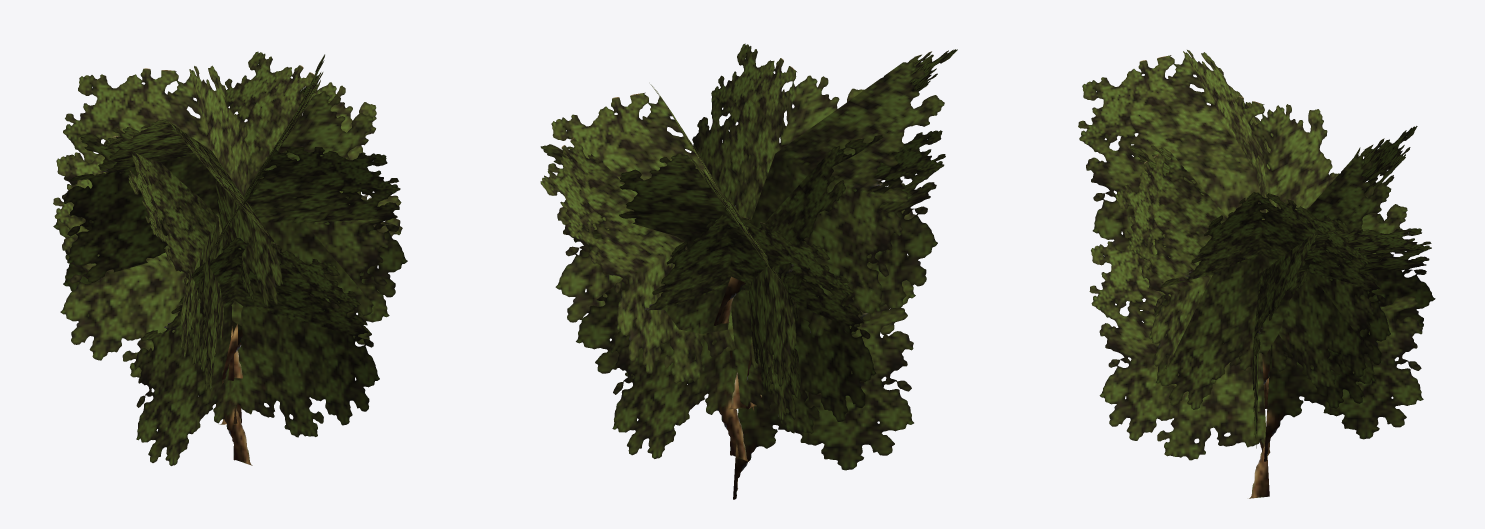
File: mbushreg_0.obj
The picture shows the model from 3 angles, left to right: view 1: azimuth 30°, elevation 25°; view 2: azimuth 150°, elevation 25°; view 3: azimuth 270°, elevation 25°; orthographic projection. The views are drawn at different scales.
Visible parts, largest first — view 1: mbushreg_0; view 2: mbushreg_0; view 3: mbushreg_0.
Boxes of the visible parts, box(x1,y1,x2,y2) form: mbushreg_0: box(53, 51, 407, 465); mbushreg_0: box(540, 43, 957, 499); mbushreg_0: box(1078, 50, 1435, 498).
Size of the model in its own units: 4.33 by 3.79 by 3.76.
